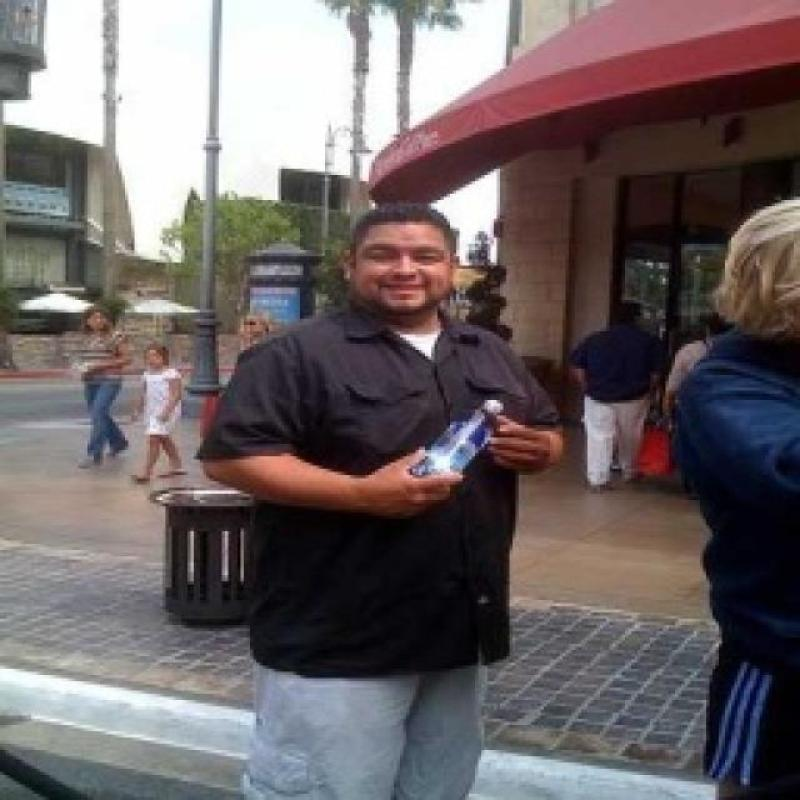botella: (416, 398, 507, 480)
